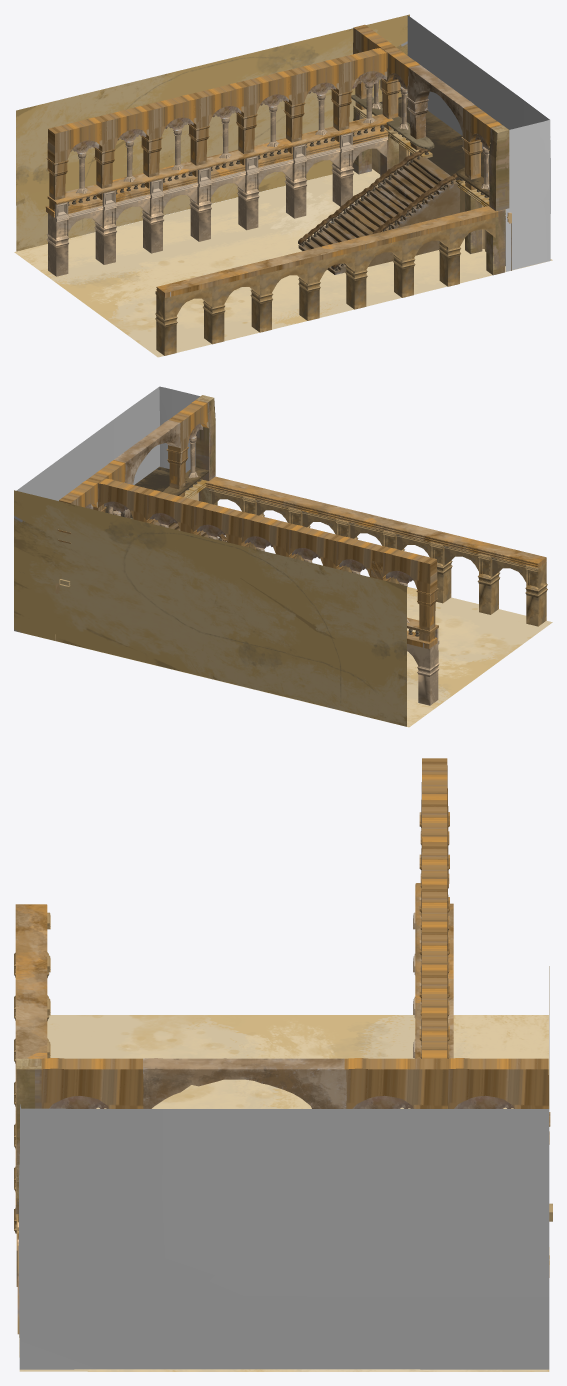
The model's file is texturisedEnvironmentFin.fbx.
3 views of the same model, one above another, from view 1: azimuth 30°, elevation 25°; view 2: azimuth 150°, elevation 25°; view 3: azimuth 270°, elevation 25° (orthographic). The views are drawn at different scales.
Parts seen in each view (by area): view 1: floor020, floor021, pillar142, StraightStair007, floor024, floor022, Box015, Balustrada031, pillar148, Box016, floor023, pillar154 (+27 smaller); view 2: floor021, pillar142, floor020, floor022, Box015, pillar153, pillar160, pillar148, pillar161, pillar154, pillar149, floor024 (+9 smaller); view 3: floor022, floor020, pillar142, pillar148, Box015, pillar153, pillar151, pillar152, pillar149, Balustrada031, Box016.
Boxes of the visible parts, x1,y1,x2,y2 form: floor020: (14,169,552,357); floor021: (16,14,409,251); pillar142: (46,48,387,211); StraightStair007: (298,156,459,274); floor024: (505,120,550,271); floor022: (407,15,550,213); Box015: (156,214,463,297); Balustrada031: (47,126,351,204); pillar148: (406,65,474,150); Box016: (45,138,339,217); floor023: (380,95,489,181); pillar154: (46,202,103,276); floor021: (14,490,406,726); pillar142: (98,478,438,642); floor020: (58,587,552,727); floor022: (16,387,159,505); Box015: (240,485,546,567); pillar153: (166,400,208,496); pillar160: (491,557,547,626); pillar148: (114,420,180,518); pillar161: (444,545,500,614); pillar154: (407,628,439,705); pillar149: (195,395,215,480); floor024: (159,386,200,500); floor022: (19,1108,549,1369); floor020: (19,1015,549,1371); pillar142: (419,758,449,1058); pillar148: (143,1058,346,1108); Box015: (15,904,47,1172); pillar153: (41,1058,143,1108); pillar151: (344,1058,447,1108); pillar152: (447,1058,550,1144); pillar149: (16,1058,41,1213); Balustrada031: (415,883,421,1058); Box016: (448,903,453,1058).
Size of the model in its own units: 4237 by 1456 by 2703.
